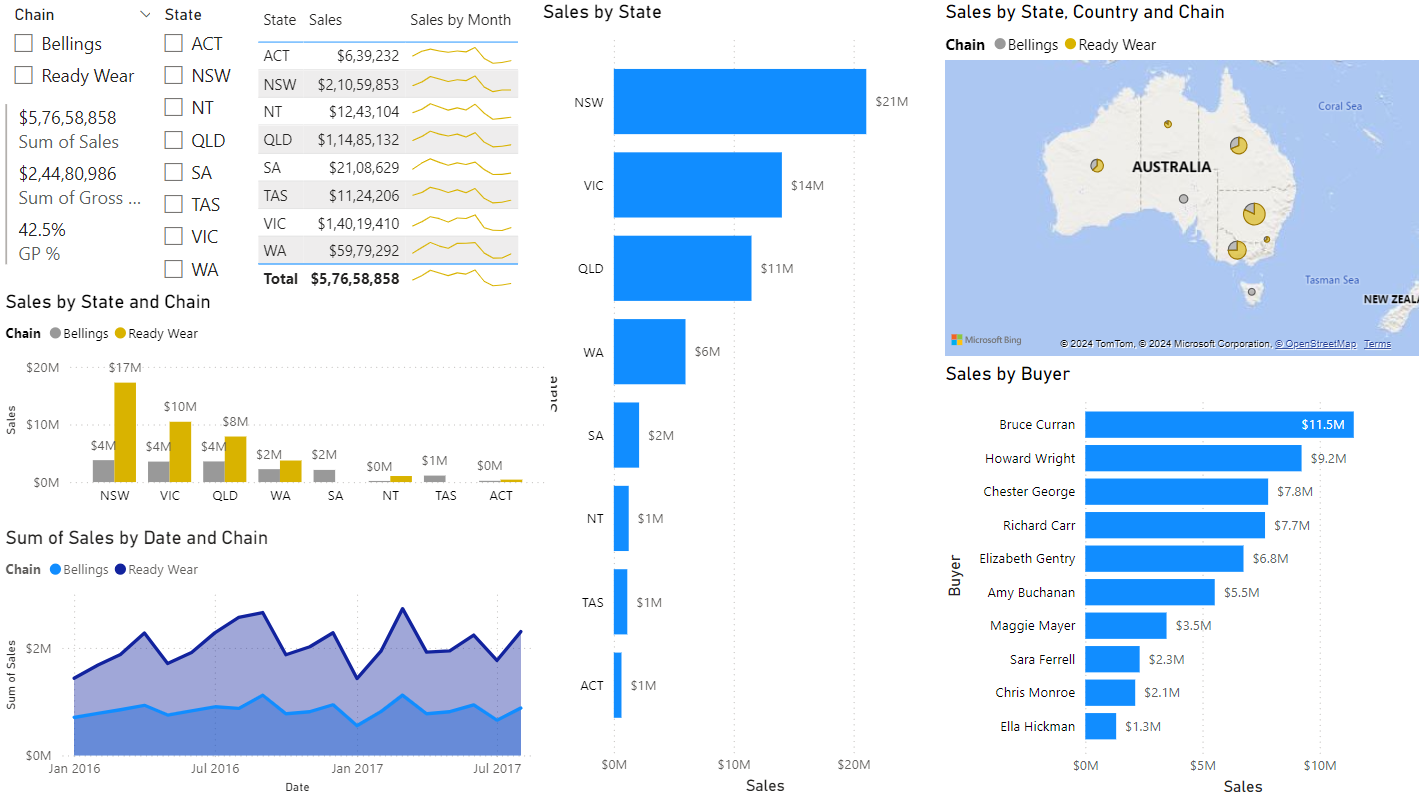

This screenshot's page, from the dashboard's own definition file:
{"tool":"powerbi","page":{"name":"Regions & Chain","canvas":[1280,720],"ordinal":1},"visuals":[{"type":"clusteredBarChart","fields":{"Y":["Sales.Sales"],"Category":["Buyers.Buyer"]},"box":[844.8,325.3,435.6,394.3],"z":0},{"type":"map","title":"Sales by State, Country and Chain","fields":{"Size":["Sales.Sales"],"Series":["Sales.Chain"],"Category":["Regions.State, Country"]},"box":[844.8,0,435.6,325.3],"z":1000},{"type":"clusteredBarChart","fields":{"Y":["Sales.Sales"],"Category":["Regions.State","Managers.Manager"]},"box":[482.8,0,362.1,719.5],"z":2000},{"type":"areaChart","fields":{"Y":["Sales.Sales"],"Series":["Sales.Chain"],"Category":["Sales.Date"]},"box":[0,473.6,495.4,246],"z":3000},{"type":"clusteredColumnChart","fields":{"Y":["Sales.Sales"],"Category":["Regions.State"],"Series":["Sales.Chain"]},"box":[0,260.9,495.4,212.6],"z":4000},{"type":"slicer","fields":{"Values":["Sales.Chain"]},"box":[0,0,150.6,93.1],"z":5000},{"type":"multiRowCard","fields":{"Values":["Sales.Sales","Sales.Gross Profit ","Sales.GP %"]},"box":[0,88.5,134.5,158.6],"z":5001},{"type":"slicer","fields":{"Values":["Regions.State"]},"box":[134.5,0,93.1,260.9],"z":5002},{"type":"tableEx","fields":{"Values":["Regions.State","Sales.Sales","SparklineData(Sum(Sales.Sales)_[Dates.Date.Variation.Date Hierarchy.Month])"]},"box":[225.3,0,257.5,273.6],"z":5003}]}

Visuals, with their boxes in screenshot pixels (x1, y1, x2, y2), scaled from the page's 1280x720 canvas onto the 1424x800 screenshot:
clusteredBarChart - Sales.Sales x Buyers.Buyer: [940, 361, 1423, 799]
"Sales by State, Country and Chain" map: [940, 0, 1423, 361]
clusteredBarChart - Sales.Sales x Regions.State: [537, 0, 940, 799]
areaChart - Sales.Sales x Sales.Chain: [0, 526, 551, 799]
clusteredColumnChart - Sales.Sales x Regions.State: [0, 290, 551, 526]
slicer - Sales.Chain: [0, 0, 168, 103]
multiRowCard - Sales.Sales x Sales.Gross Profit : [0, 98, 150, 275]
slicer - Regions.State: [150, 0, 253, 290]
tableEx - Regions.State x Sales.Sales: [251, 0, 537, 304]
